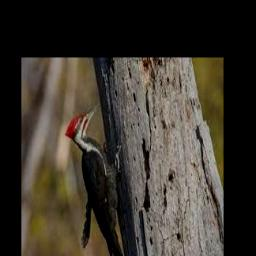Woodpecker: (65, 103, 130, 256)
